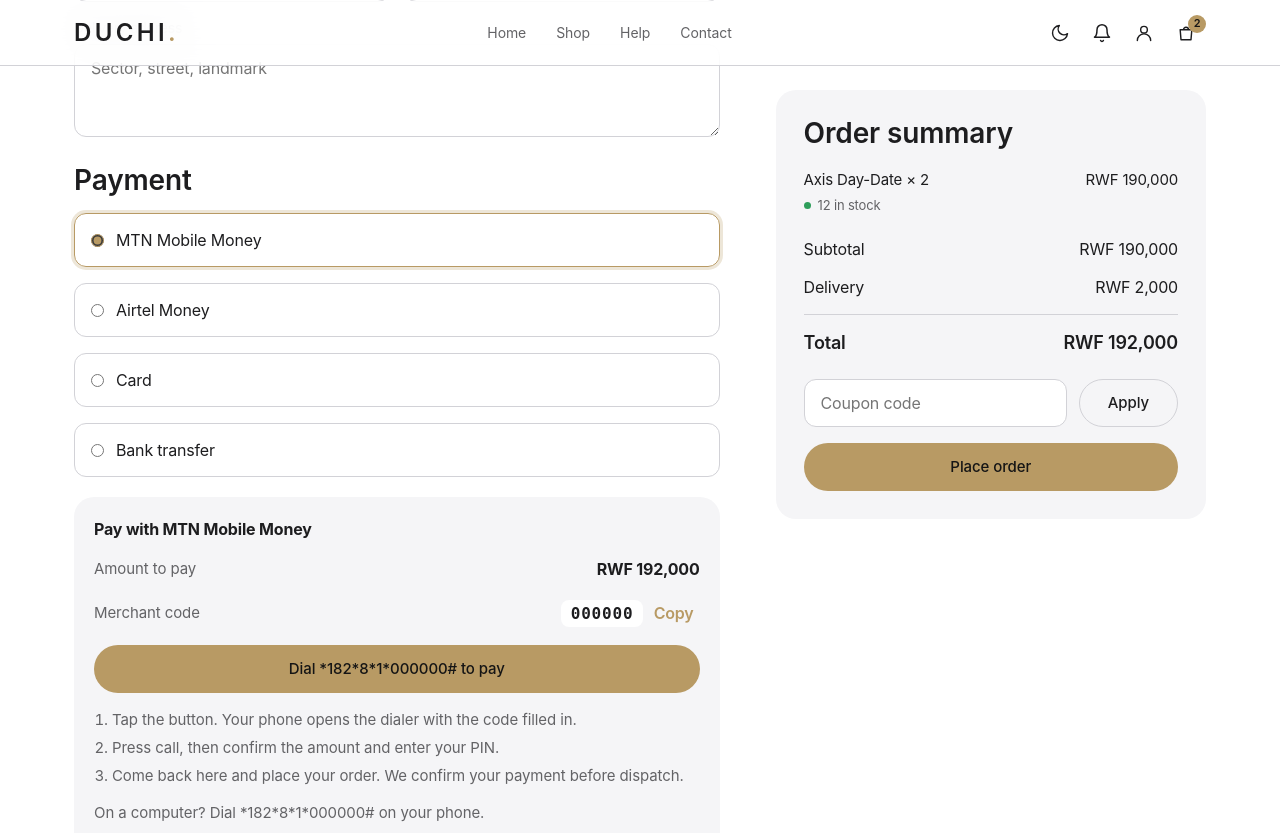
orders cannot be placed with wrong data › checkout form shows a message under each wrong field
(page scrolled)
Click the radio button labelled "Bank transfer" at point(98, 450), box [91,444,104,456]
(page scrolled)
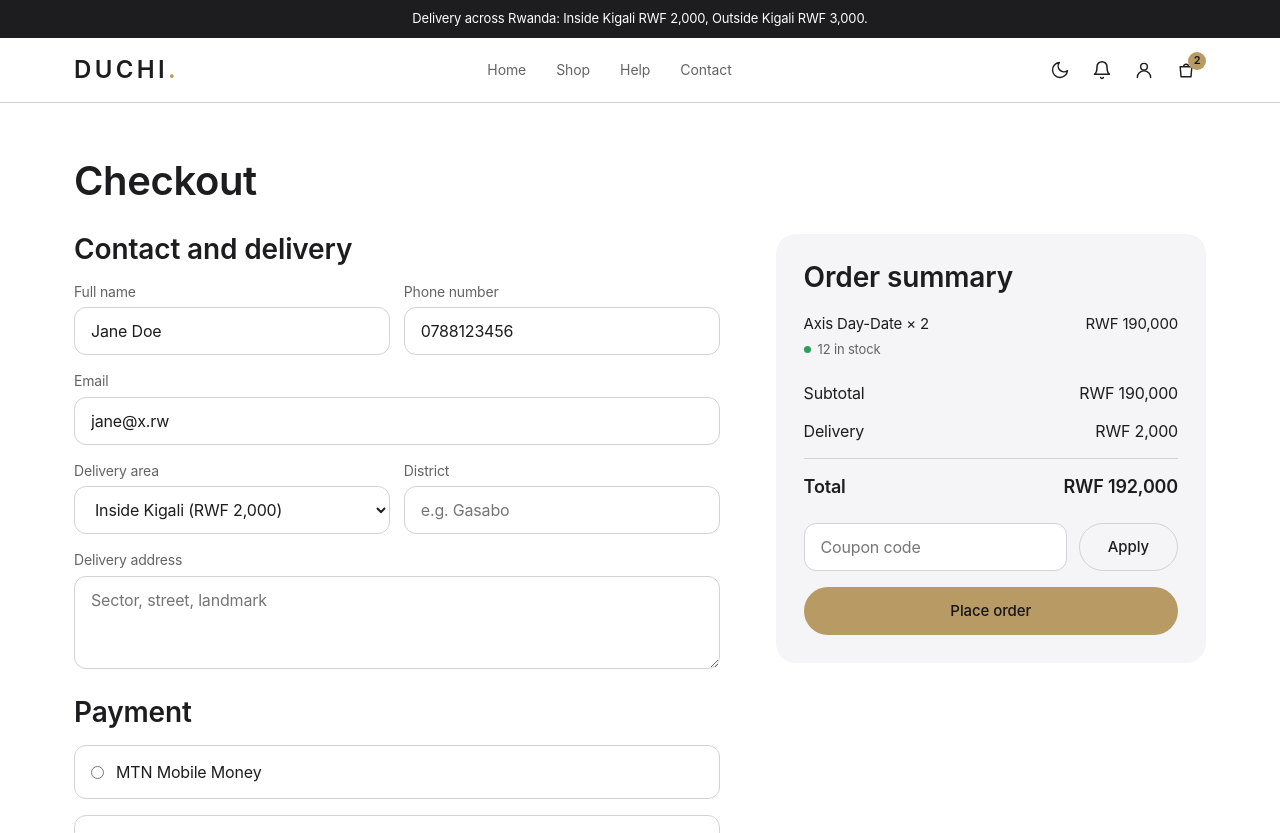
Clear the field labelled "Full name" at point(232, 331), box [74,307,390,355]
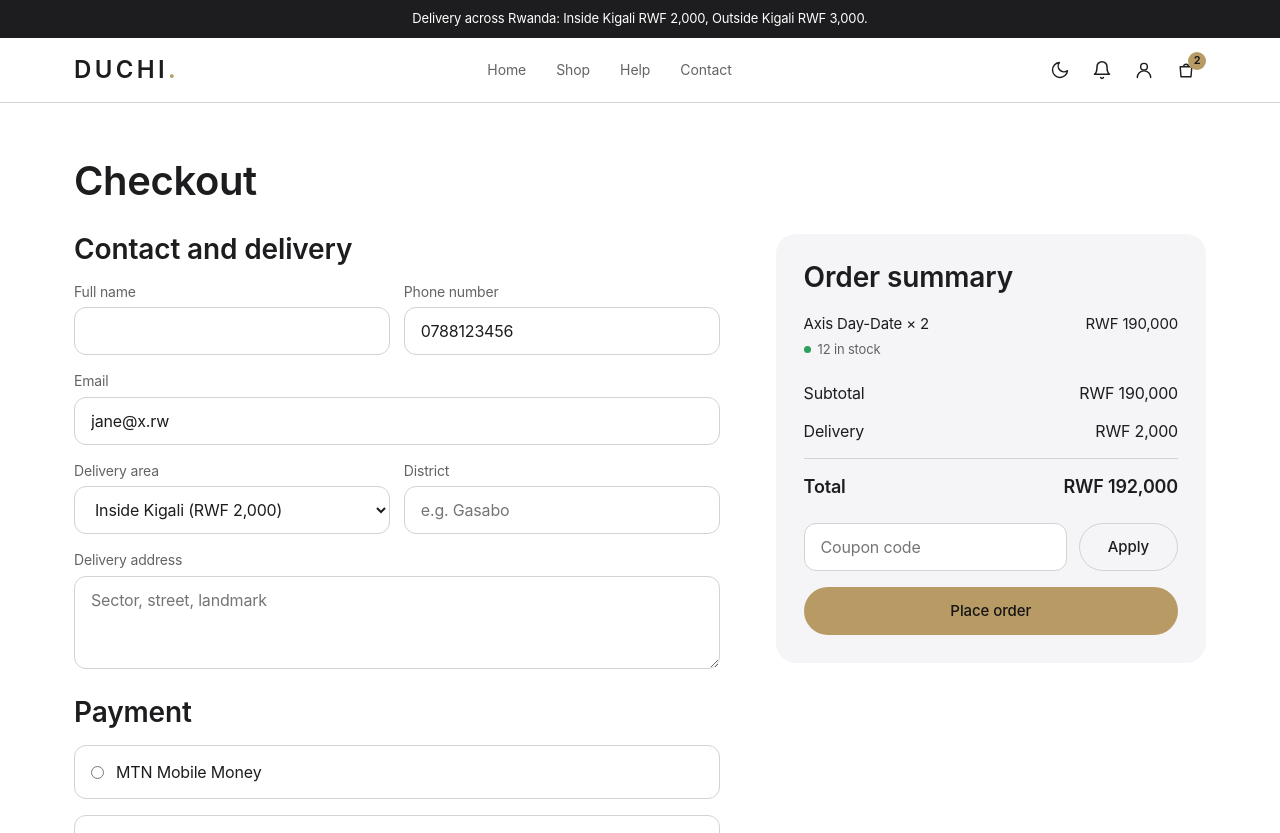
Clear the field labelled "Phone number" at point(562, 331), box [404,307,720,355]
(page scrolled)
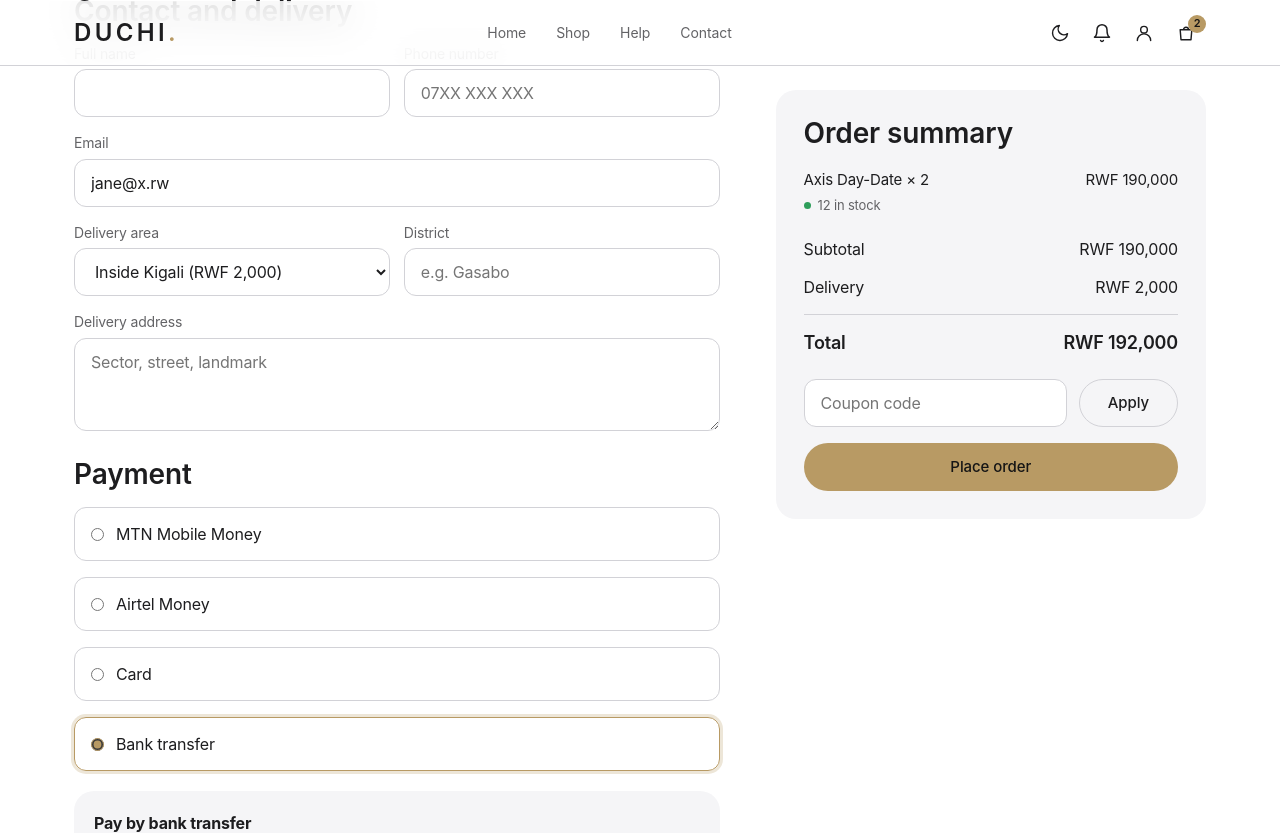
Submit the form
(page scrolled)
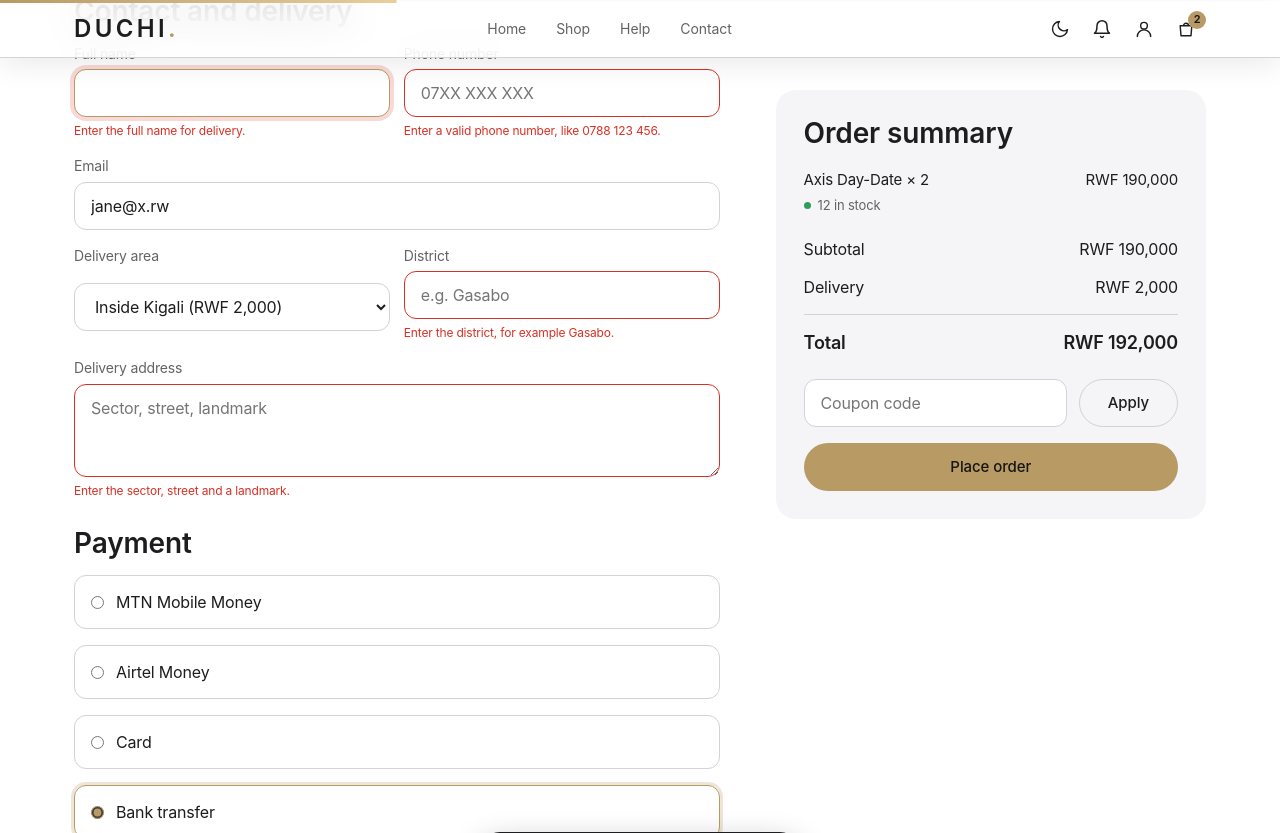
Now the text "Enter the full name for delivery." is shown, box [74,123,245,138]
Now the text "Enter a valid phone number, like 0788 123 456." is shown, box [404,123,661,138]
Now the text "Enter the district, for example Gasabo." is shown, box [404,325,614,340]
